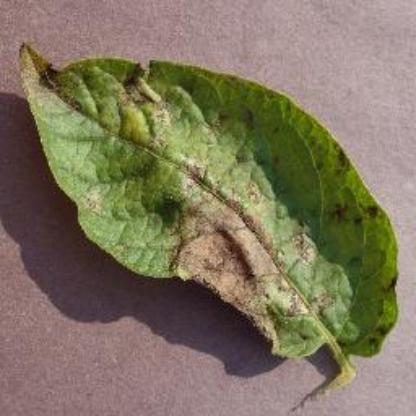Late-Blight: (7, 37, 403, 379)
